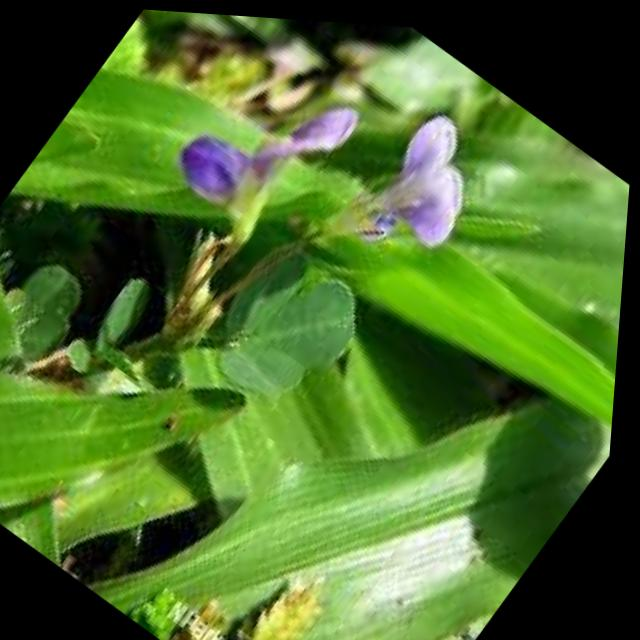Flower: (141, 33, 376, 284), (342, 83, 521, 274)
